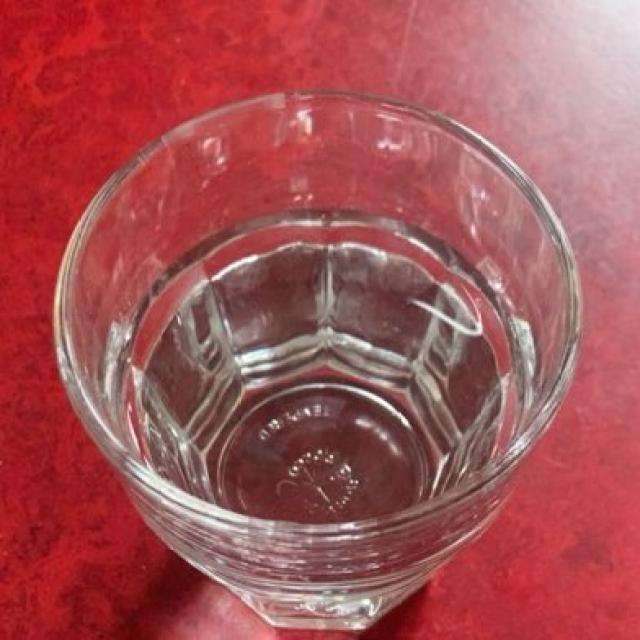water: (125, 228, 513, 523)
